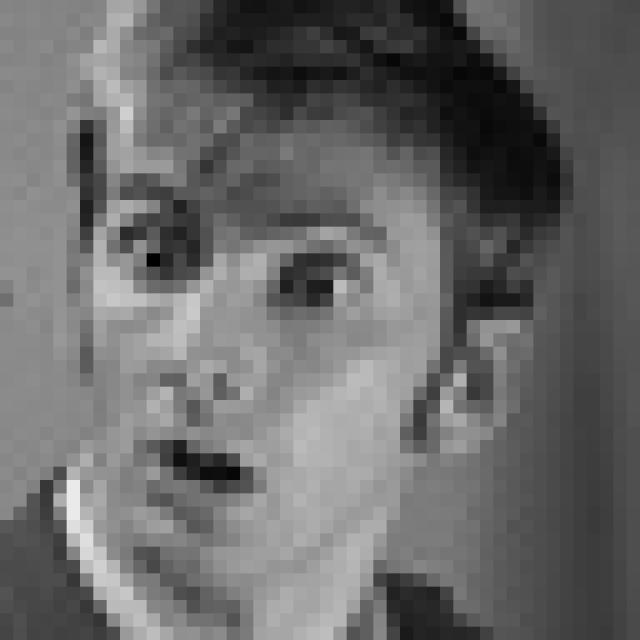surprise: (104, 165, 409, 537)
